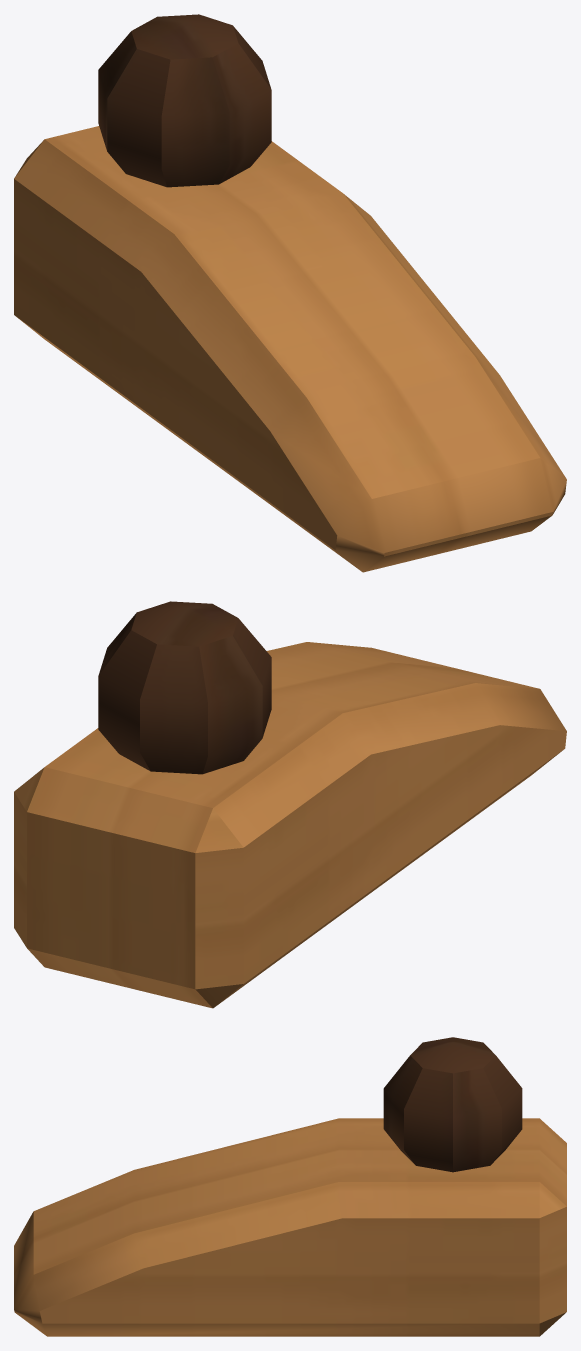
File: Doll_Foot.glb
3 renders of one model, top to bottom at view 1: azimuth 30°, elevation 25°; view 2: azimuth 150°, elevation 25°; view 3: azimuth 270°, elevation 25°, orthographic. The views are drawn at different scales.
Visible parts, largest first — view 1: Doll_Foot; view 2: Doll_Foot; view 3: Doll_Foot.
Boxes of the visible parts, box(x1,y1,x2,y2) form: Doll_Foot: box(14, 14, 566, 572); Doll_Foot: box(14, 601, 566, 1008); Doll_Foot: box(14, 1037, 566, 1336).
Bounding box in the file's own units: 0.09 × 0.127 × 0.2426.
2 materials, 2 textured.
